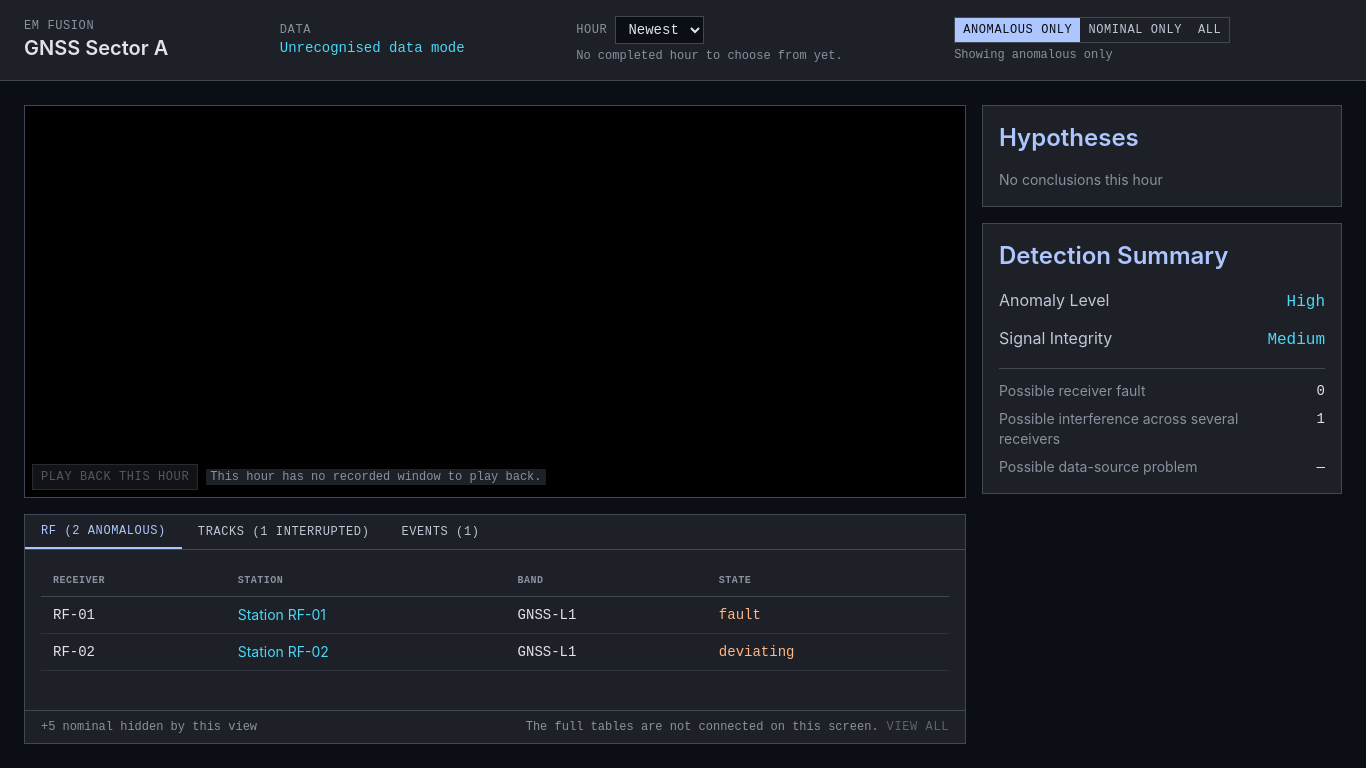
it: where the panel sits › absorbs the timeline rather than sitting beside it
Click the tab "Events (1)" at (440, 532), box [386,515,496,549]
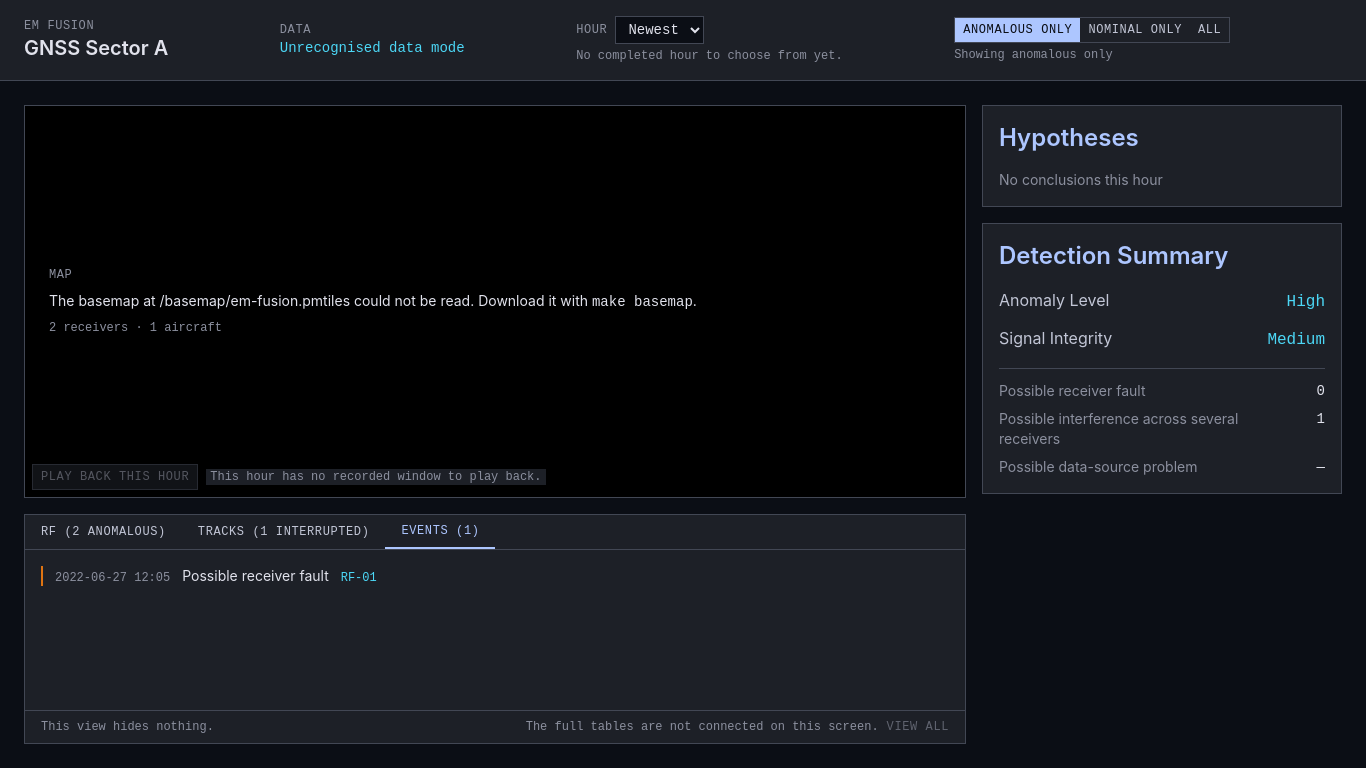
Result: the number of list items is 1 at [41,566,949,586]
